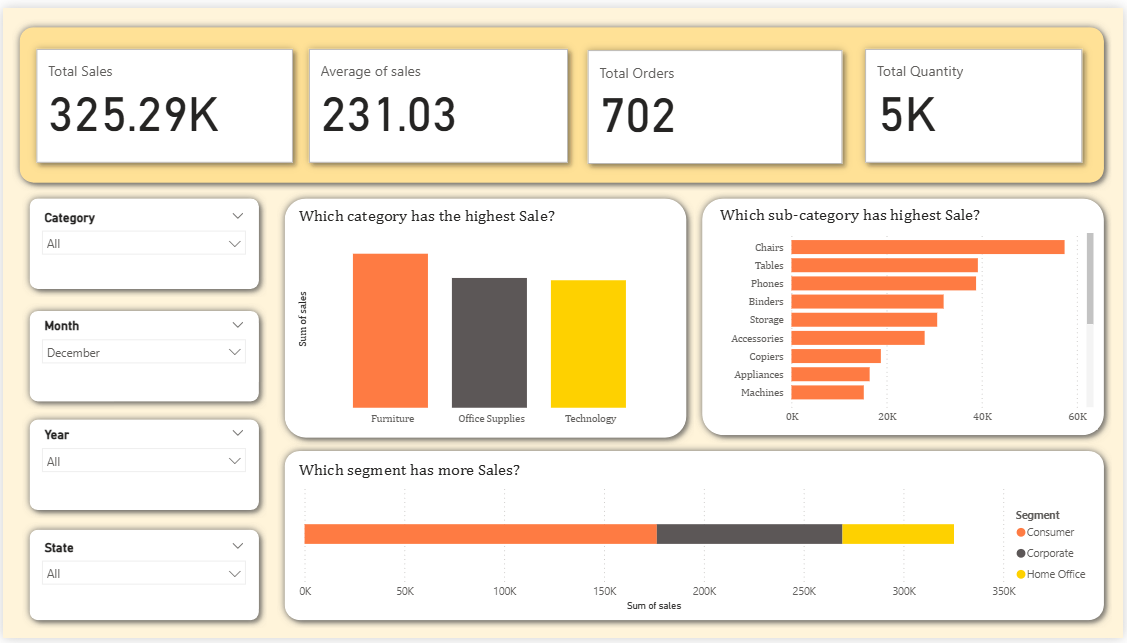

The page's visual inventory and layout, read from the dashboard file:
{"tool":"powerbi","page":{"name":"Page 1","canvas":[1280,720],"ordinal":0},"visuals":[{"type":"shape","box":[21.4,587.1,280,121.4],"z":0},{"type":"shape","box":[21.4,460.8,280,121.4],"z":1000},{"type":"shape","box":[21.4,337.1,280,121.4],"z":2000},{"type":"shape","box":[312.9,497.1,954.3,211.4],"z":3000},{"type":"shape","box":[312.9,208.6,477.1,291.4],"z":4000},{"type":"shape","box":[790,208.6,477.1,288.6],"z":5000},{"type":"shape","box":[10,12.9,1257.1,195.7],"z":6000},{"type":"clusteredBarChart","title":"Which sub-category has highest Sale?","fields":{"Category":["public superstore.sub_category"],"Y":["Sum(public superstore.sales)"]},"box":[814.3,225.7,437.1,255.7],"z":7000},{"type":"clusteredColumnChart","title":"Which category has the highest Sale?","fields":{"Category":["public superstore.category"],"Y":["Sum(public superstore.sales)"]},"box":[332.9,227.1,434.3,255.7],"z":8000},{"type":"barChart","title":"Which segment has more Sales?","fields":{"Series":["public superstore.segment"],"Y":["Sum(public superstore.sales)"]},"box":[332.9,517.1,918.6,177.1],"z":9000},{"type":"cardVisual","fields":{"Data":["public superstore.Total Sales"]},"box":[21.4,30,327.1,164.3],"z":10000},{"type":"cardVisual","fields":{"Data":["public superstore.Total Orders"]},"box":[651.4,31.4,325.7,164.3],"z":11000},{"type":"cardVisual","fields":{"Data":["public superstore.Total Quantity"]},"box":[968.6,30,282.9,164.3],"z":12000},{"type":"cardVisual","fields":{"Data":["Avg(public superstore.sales)"]},"box":[332.9,30,330,164.3],"z":13000},{"type":"slicer","fields":{"Values":["public superstore.Year"]},"box":[34.3,473.7,252.9,97.1],"z":14000},{"type":"slicer","fields":{"Values":["public superstore.state"]},"box":[34.3,602.9,252.9,91.4],"z":15000},{"type":"slicer","fields":{"Values":["public superstore.Month"]},"box":[34.3,349.7,252.9,97.1],"z":16000},{"type":"shape","box":[21.4,208.6,280,121.4],"z":17000},{"type":"slicer","fields":{"Values":["public superstore.category"]},"box":[34.3,225.7,252.9,85.7],"z":18000}]}

Visuals, with their boxes in screenshot pixels (x1, y1, x2, y2), scaled from the page's 1280x720 canvas onto the 1127x643 screenshot:
shape: bbox=[19, 524, 265, 633]
shape: bbox=[19, 412, 265, 520]
shape: bbox=[19, 301, 265, 409]
shape: bbox=[275, 444, 1116, 633]
shape: bbox=[275, 186, 696, 447]
shape: bbox=[696, 186, 1116, 444]
shape: bbox=[9, 12, 1116, 186]
"Which sub-category has highest Sale?" clusteredBarChart: bbox=[717, 202, 1102, 430]
"Which category has the highest Sale?" clusteredColumnChart: bbox=[293, 203, 675, 431]
"Which segment has more Sales?" barChart: bbox=[293, 462, 1102, 620]
cardVisual - public superstore.Total Sales: bbox=[19, 27, 307, 174]
cardVisual - public superstore.Total Orders: bbox=[574, 28, 860, 175]
cardVisual - public superstore.Total Quantity: bbox=[853, 27, 1102, 174]
cardVisual - Avg(public superstore.sales): bbox=[293, 27, 584, 174]
slicer - public superstore.Year: bbox=[30, 423, 253, 510]
slicer - public superstore.state: bbox=[30, 538, 253, 620]
slicer - public superstore.Month: bbox=[30, 312, 253, 399]
shape: bbox=[19, 186, 265, 295]
slicer - public superstore.category: bbox=[30, 202, 253, 278]
